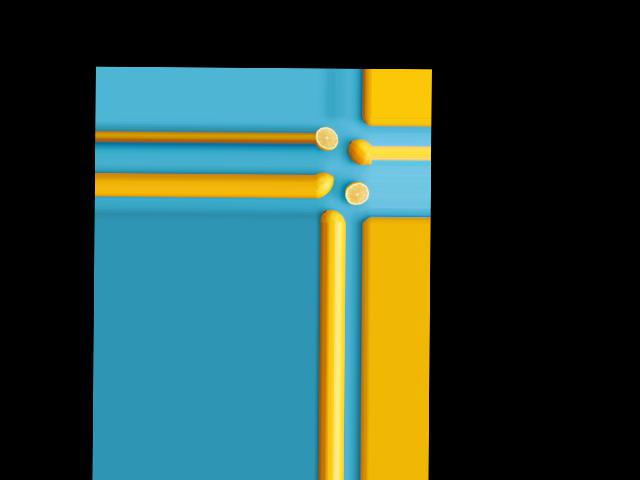lemon: (322, 207, 347, 224)
